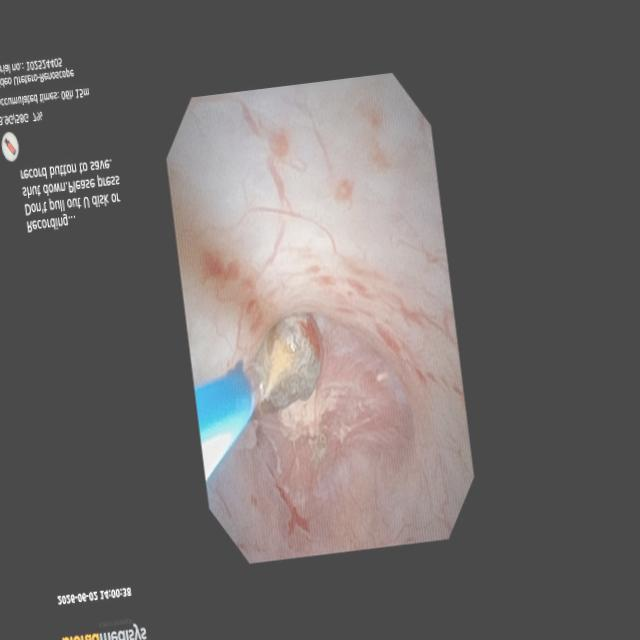laser-fibre: (244, 355, 267, 404)
stone-new: (249, 314, 322, 416)
